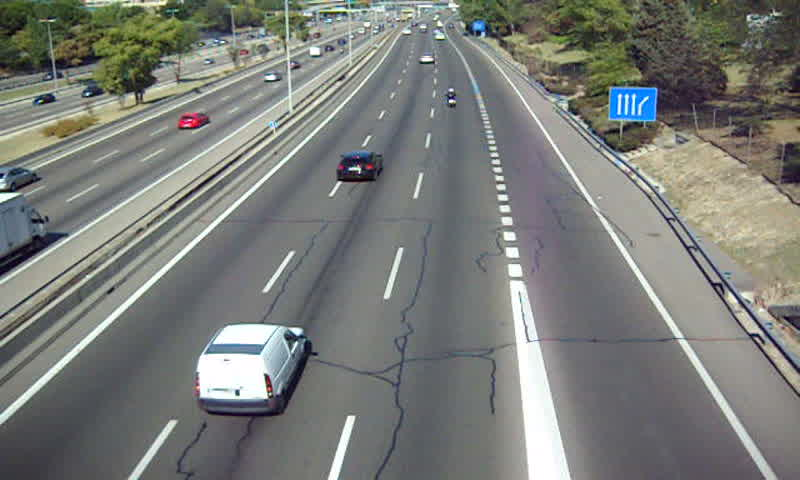car: (335, 150, 384, 181), (418, 54, 435, 66)
motorcycle: (443, 88, 460, 110)
van: (196, 325, 310, 414)
